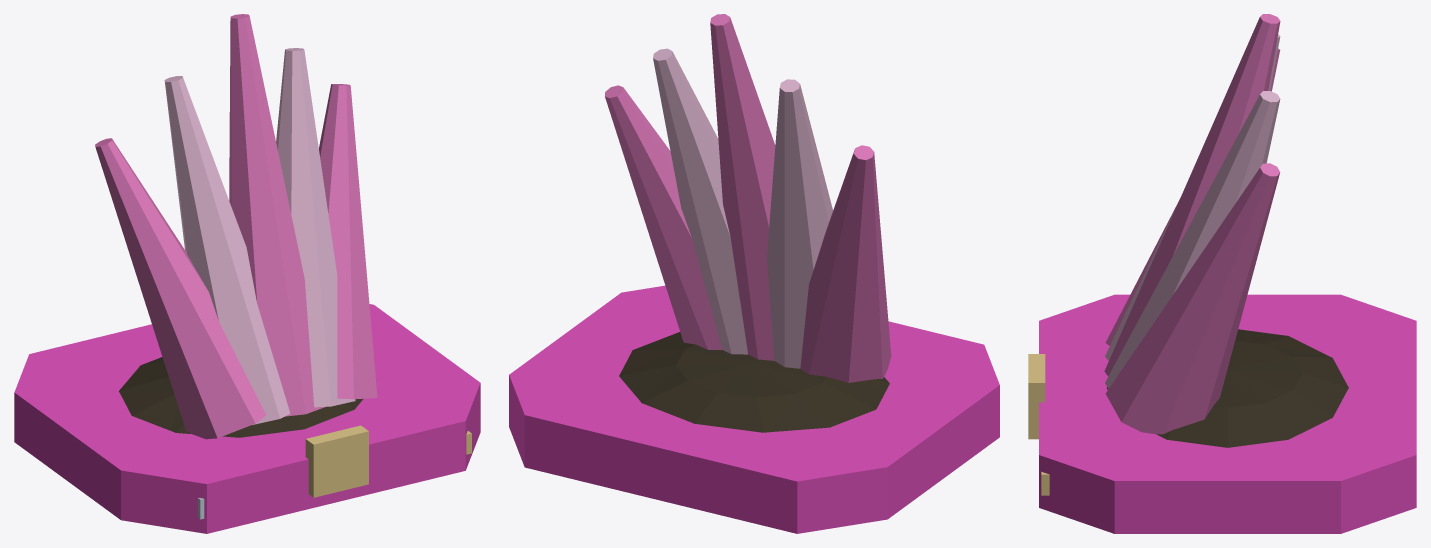
Rendered from plumecrest.glb.
3 views of the same model, side by side, from view 1: azimuth 30°, elevation 25°; view 2: azimuth 150°, elevation 25°; view 3: azimuth 270°, elevation 25° (orthographic). The views are drawn at different scales.
Visible parts, largest first — view 1: Showgirl Plume Crest.001; view 2: Showgirl Plume Crest.001; view 3: Showgirl Plume Crest.001.
Part boxes in pixels (x1,y1,x2,y2): Showgirl Plume Crest.001: [14, 14, 480, 533]; Showgirl Plume Crest.001: [509, 14, 999, 533]; Showgirl Plume Crest.001: [1028, 14, 1416, 533].
Size of the model in its own units: 0.6802 by 0.7326 by 0.5984.
